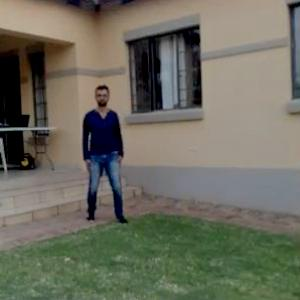follow: (80, 78, 126, 235)
